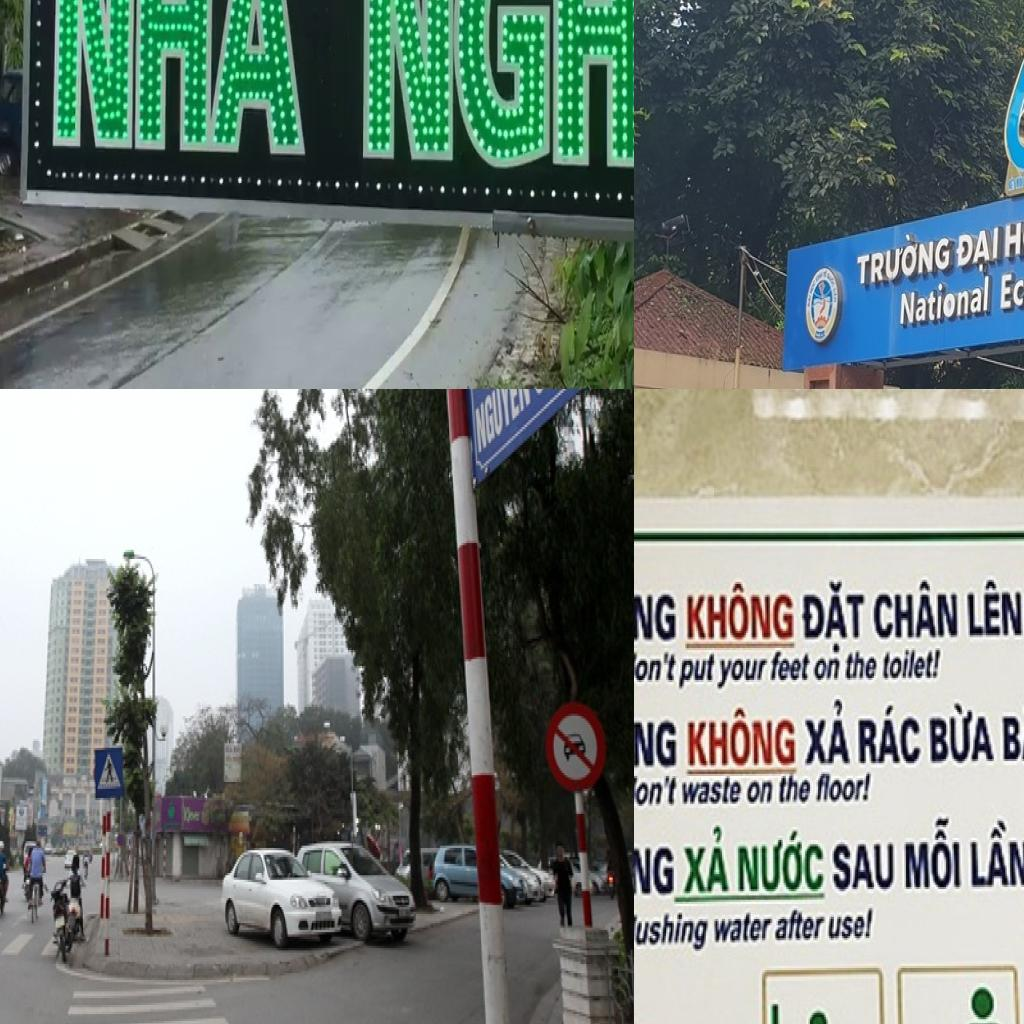text: (54, 0, 303, 152), (685, 704, 799, 770), (682, 580, 799, 644), (854, 218, 954, 291), (734, 827, 828, 896), (871, 578, 962, 644), (896, 270, 995, 330), (799, 578, 869, 656), (901, 810, 965, 893), (927, 697, 999, 768), (856, 702, 926, 768), (800, 692, 855, 770), (967, 816, 1024, 891), (680, 820, 734, 898), (965, 575, 1024, 641), (474, 389, 532, 456), (829, 842, 898, 896), (634, 910, 712, 955), (634, 577, 680, 645), (634, 705, 680, 773), (634, 831, 677, 901), (956, 222, 1004, 278), (712, 908, 776, 947), (815, 770, 877, 808), (880, 646, 944, 682), (680, 774, 746, 808), (772, 906, 829, 945), (824, 904, 878, 945), (716, 656, 772, 695), (634, 647, 681, 686), (767, 648, 815, 686), (677, 650, 717, 695), (634, 773, 682, 810), (1000, 696, 1024, 765), (842, 648, 880, 684), (1004, 207, 1024, 270), (776, 774, 815, 806), (744, 778, 776, 808), (812, 657, 842, 684)
